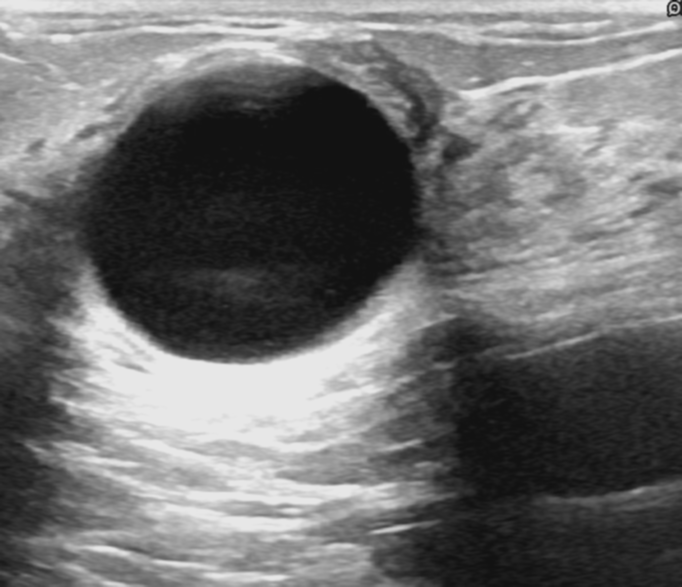Benign: (92, 62, 412, 359)
